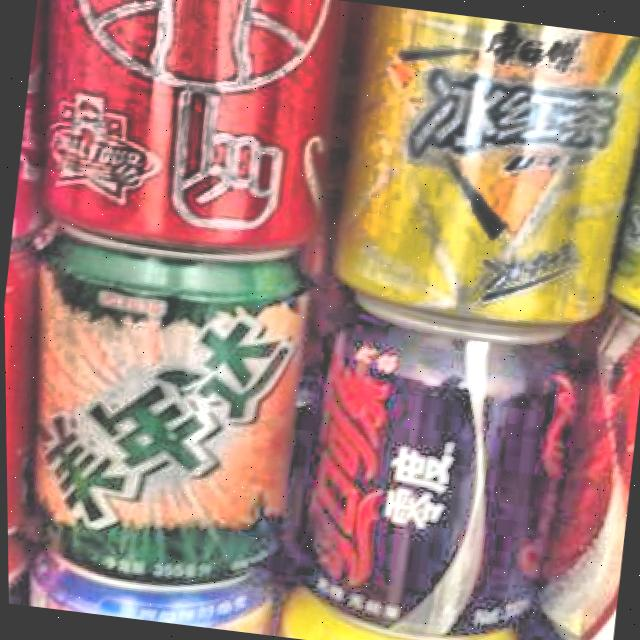metal: (2, 213, 327, 601), (279, 251, 595, 640), (316, 1, 640, 335), (15, 0, 364, 249), (531, 276, 640, 640), (21, 543, 274, 635)
